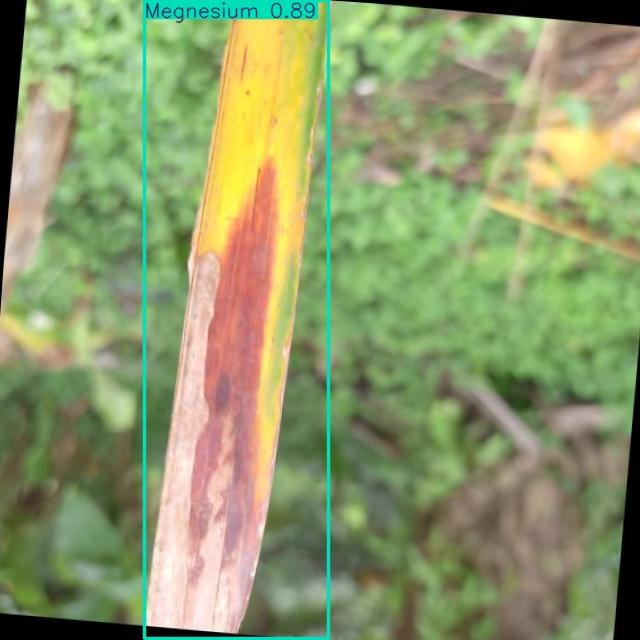Megnesium: (144, 0, 328, 639)
